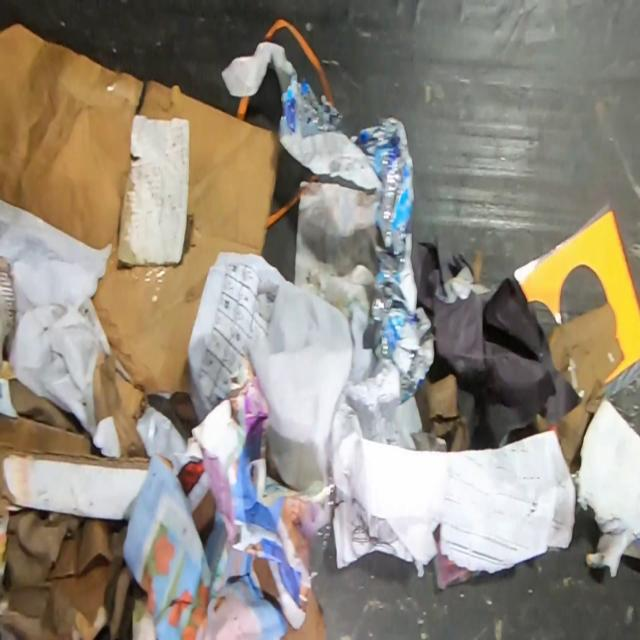cardboard: (0, 20, 284, 396), (513, 206, 640, 387), (0, 413, 150, 521), (532, 300, 624, 466), (43, 518, 142, 640), (415, 361, 470, 451), (267, 593, 326, 640), (190, 488, 214, 543), (253, 557, 280, 599)
soft_plastic: (220, 39, 436, 405), (416, 230, 581, 449), (275, 472, 338, 610), (136, 402, 204, 479), (0, 255, 17, 361)
